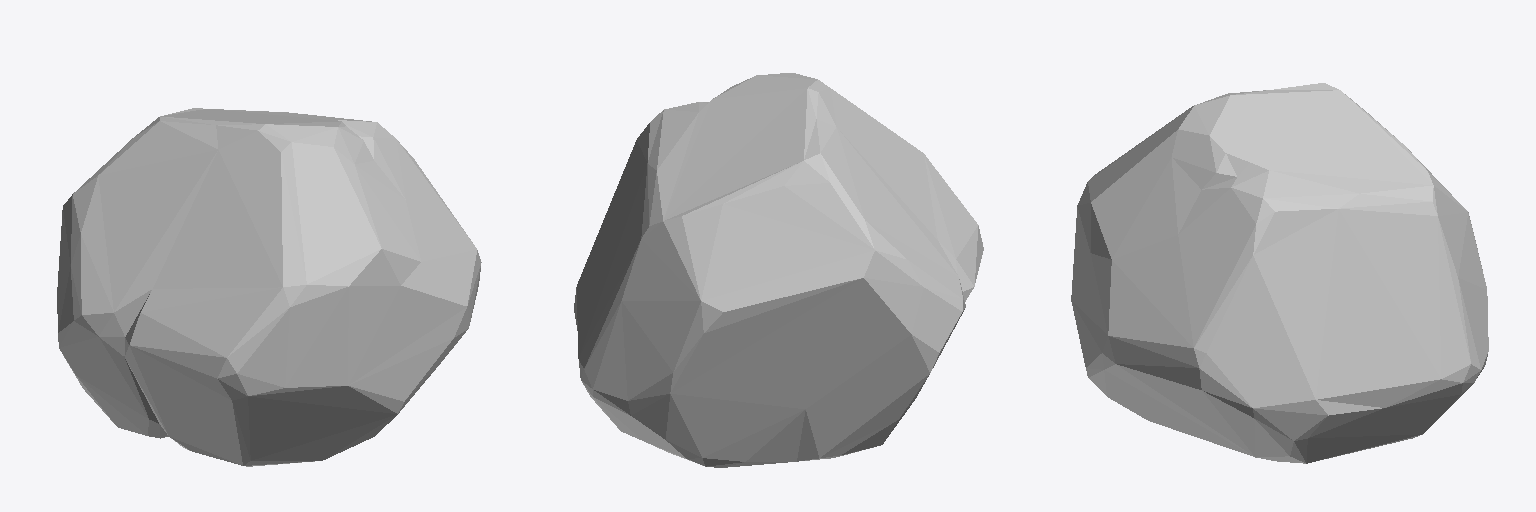
Rendered from SmallRock3.obj.
3 views of the same model, side by side, from view 1: azimuth 30°, elevation 25°; view 2: azimuth 150°, elevation 25°; view 3: azimuth 270°, elevation 25° (orthographic).
Parts seen in each view (by area): view 1: rock3; view 2: rock3; view 3: rock3.
Boxes of the visible parts, x1,y1,x2,y2 form: rock3: [57, 108, 481, 466]; rock3: [574, 73, 983, 467]; rock3: [1071, 83, 1488, 463].
Bounding box in the file's own units: 49.19 × 38.31 × 47.23.